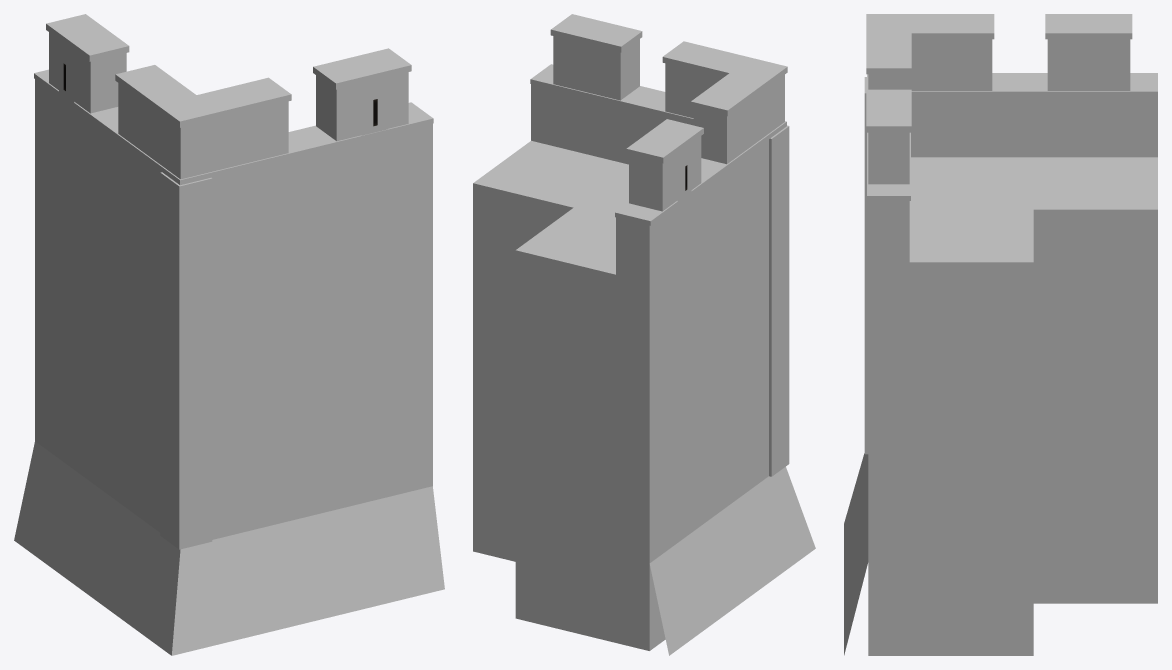
The model's file is SE_Curtain_Corner.glb.
3 renders of one model, left to right at view 1: azimuth 30°, elevation 25°; view 2: azimuth 150°, elevation 25°; view 3: azimuth 270°, elevation 25°, orthographic. The views are drawn at different scales.
Visible parts, largest first — view 1: SE_Curtain_Corner; view 2: SE_Curtain_Corner; view 3: SE_Curtain_Corner.
Boxes of the visible parts, left/top/right/bottom form: SE_Curtain_Corner: left=14, top=14, right=444, bottom=655; SE_Curtain_Corner: left=473, top=14, right=815, bottom=655; SE_Curtain_Corner: left=844, top=14, right=1157, bottom=655.
Bounding box in the file's own units: 4.55 × 8.3 × 4.55.
